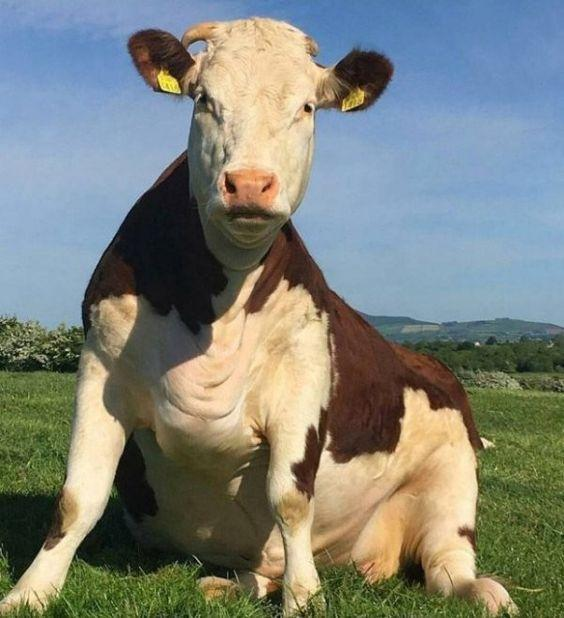cow: (113, 5, 492, 602)
